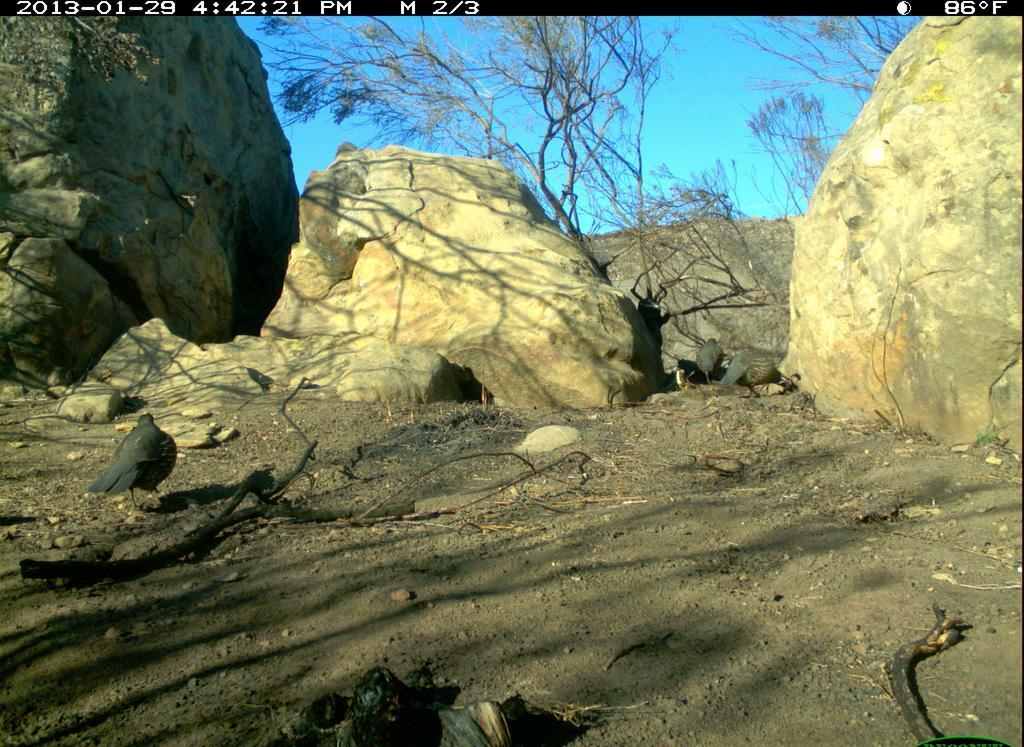bird: (89, 406, 191, 514), (716, 348, 803, 401), (695, 336, 727, 388)
